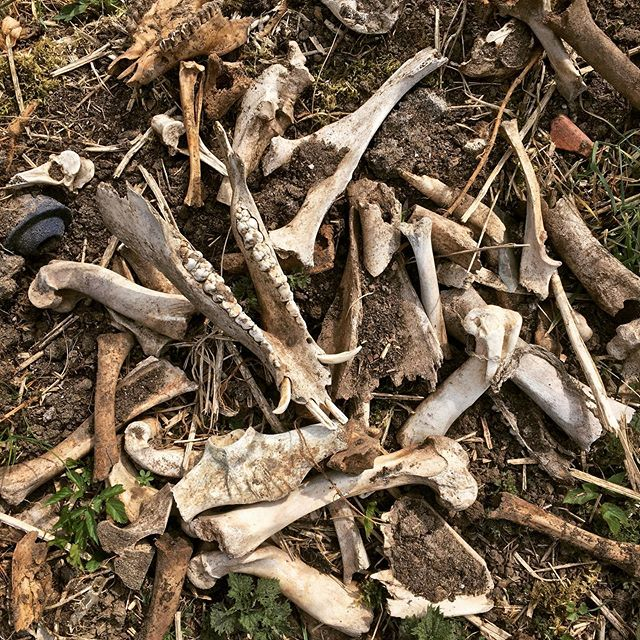bones: (1, 1, 640, 640)
